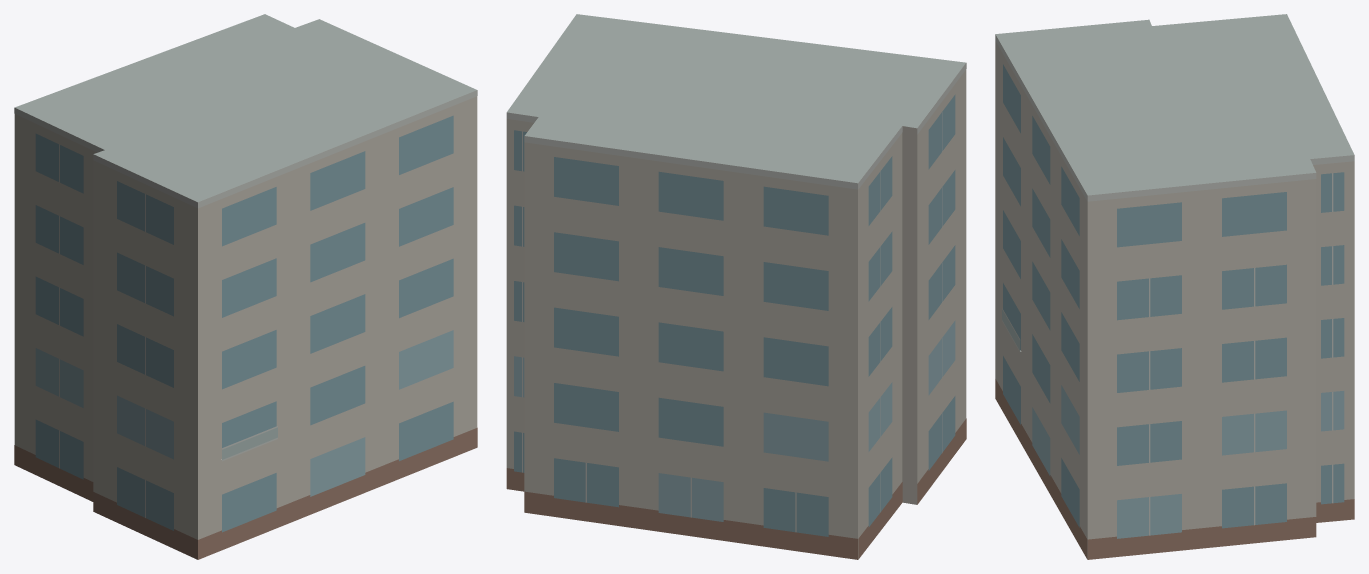
Rendered from survey-upis-32965063.glb.
3 renders of one model, left to right at view 1: azimuth 30°, elevation 25°; view 2: azimuth 150°, elevation 25°; view 3: azimuth 270°, elevation 25°, orthographic. The views are drawn at different scales.
Visible parts, largest first — view 1: survey-upis-32965063.tmp; view 2: survey-upis-32965063.tmp; view 3: survey-upis-32965063.tmp.
Boxes of the visible parts, <box> form: survey-upis-32965063.tmp: <box>14,14,477,559</box>; survey-upis-32965063.tmp: <box>506,14,966,559</box>; survey-upis-32965063.tmp: <box>995,14,1354,559</box>.
Size of the model in its own units: 15.32 by 14.33 by 12.82.
